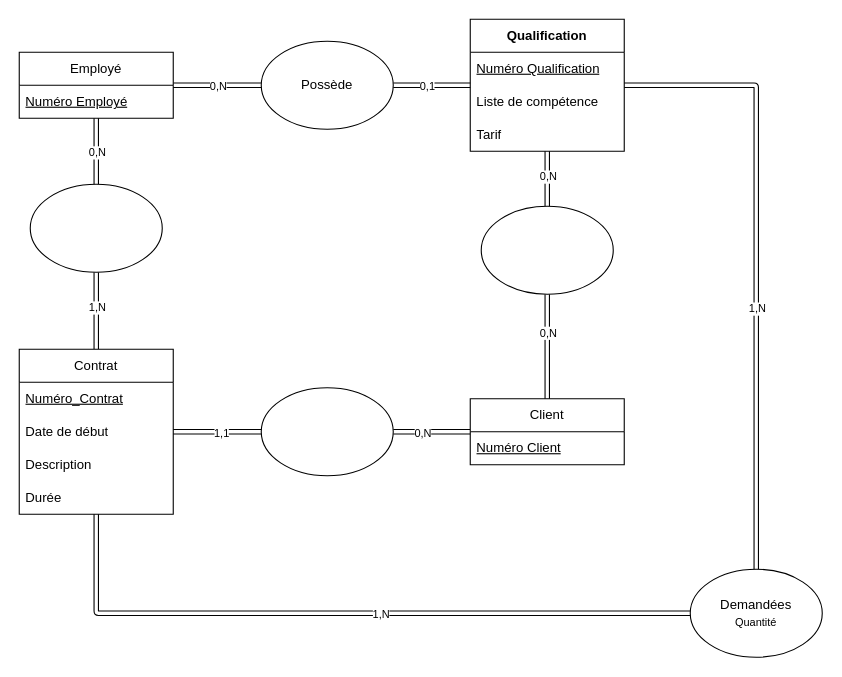
Some shapes in this 842 by 677 pixel diagram are drawn without their labels. The box of each missing label's shape, as (x1, y1, x2, y2) in pixels:
Demande intervention: (260, 387, 393, 476)
Intervient Quantité: (29, 183, 162, 272)
Intérressé: (480, 205, 613, 294)
